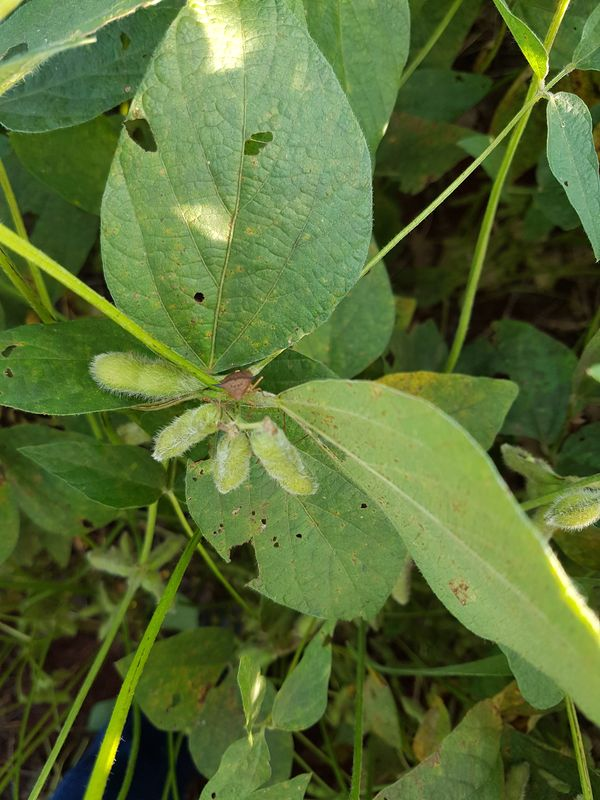Euschistus_heros_adulto: (207, 359, 266, 416)
